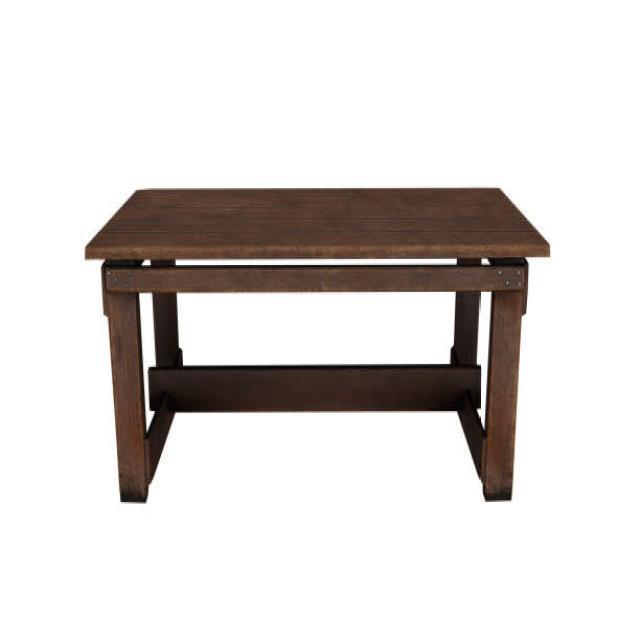table: (83, 185, 550, 504)
